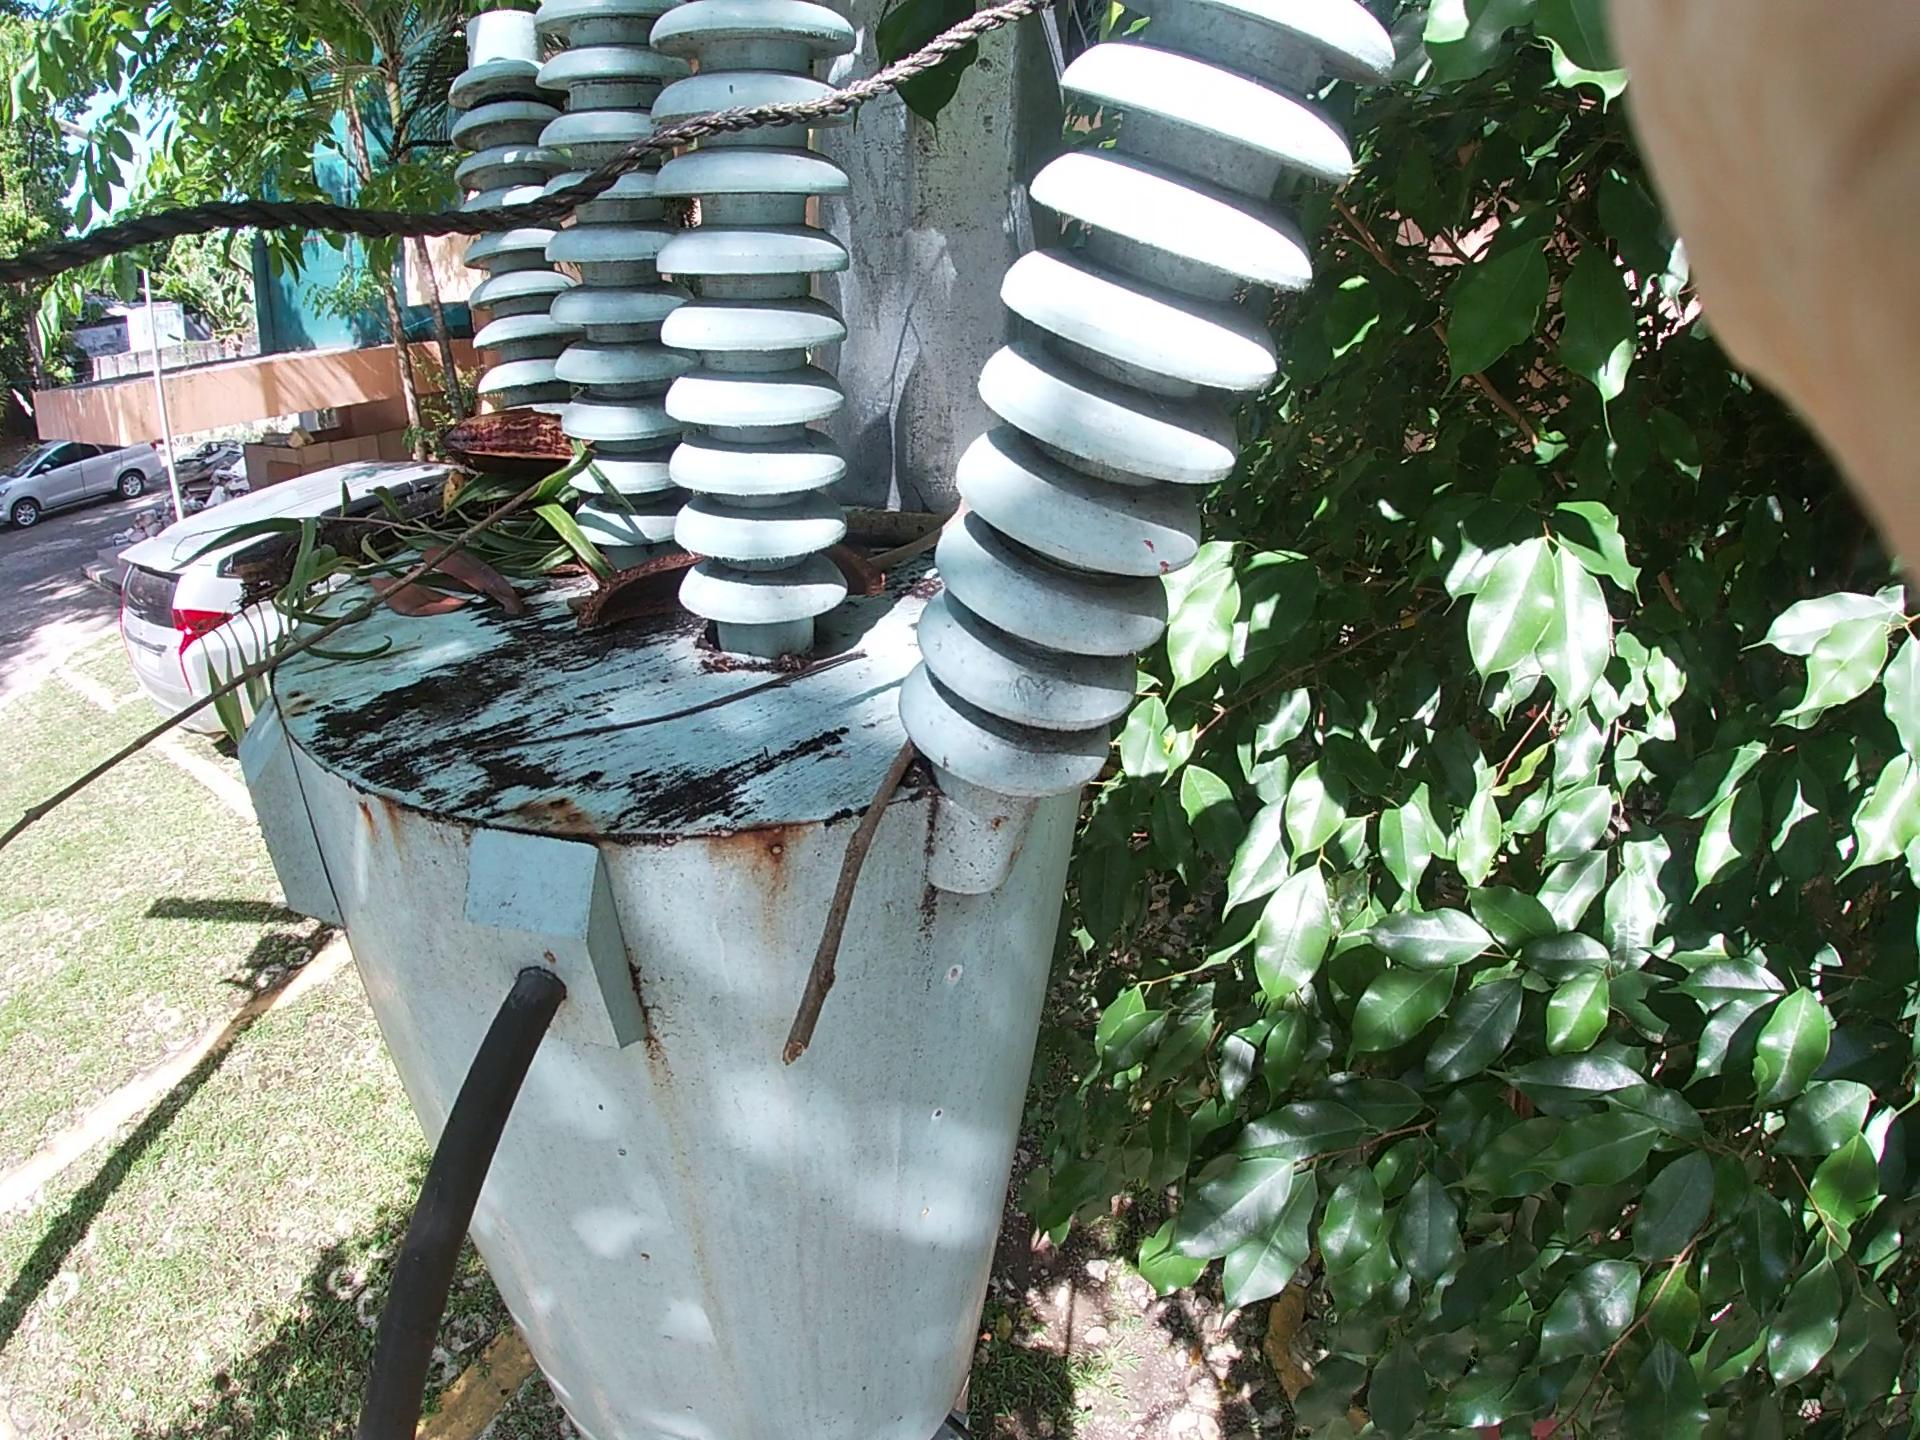branch with leaves: (168, 260, 865, 764)
leaf: (358, 517, 528, 637)
tree branch: (74, 395, 643, 809), (785, 644, 989, 1104)
